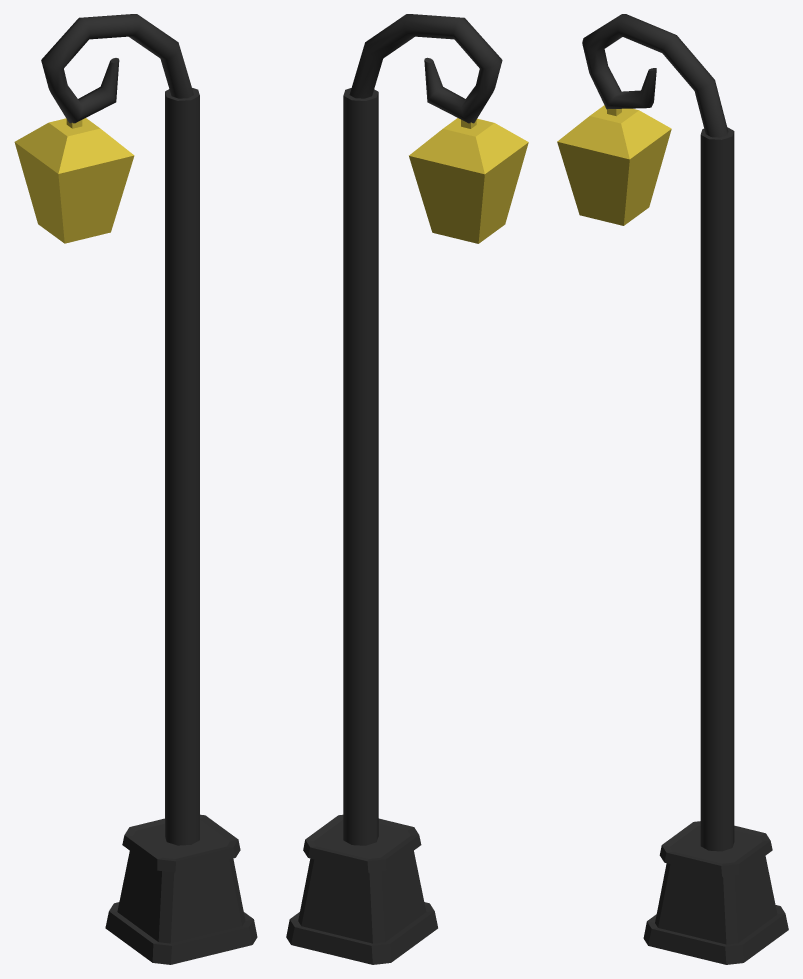
Rendered from lampadaire.FBX.
The picture shows the model from 3 angles, left to right: view 1: azimuth 30°, elevation 25°; view 2: azimuth 150°, elevation 25°; view 3: azimuth 330°, elevation 25°; orthographic projection. The views are drawn at different scales.
Parts seen in each view (by area): view 1: Cylinder007; view 2: Cylinder007; view 3: Cylinder007.
Part boxes in pixels (x1,y1,x2,y2): Cylinder007: (14,14,257,964); Cylinder007: (286,14,528,964); Cylinder007: (557,14,788,964).
Bounding box in the file's own units: 130 × 590 × 68.9.
